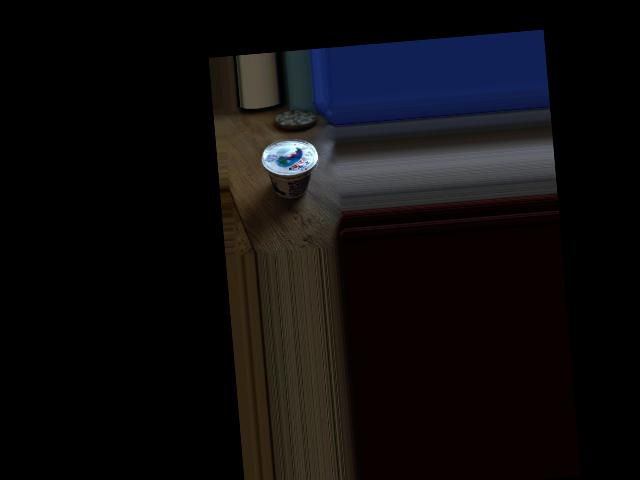cotage: (258, 136, 312, 210)
